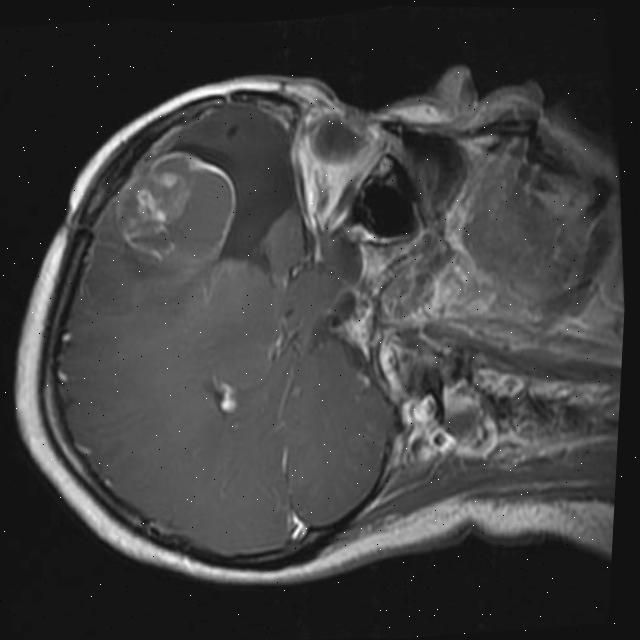Glioma: (107, 143, 248, 273)
